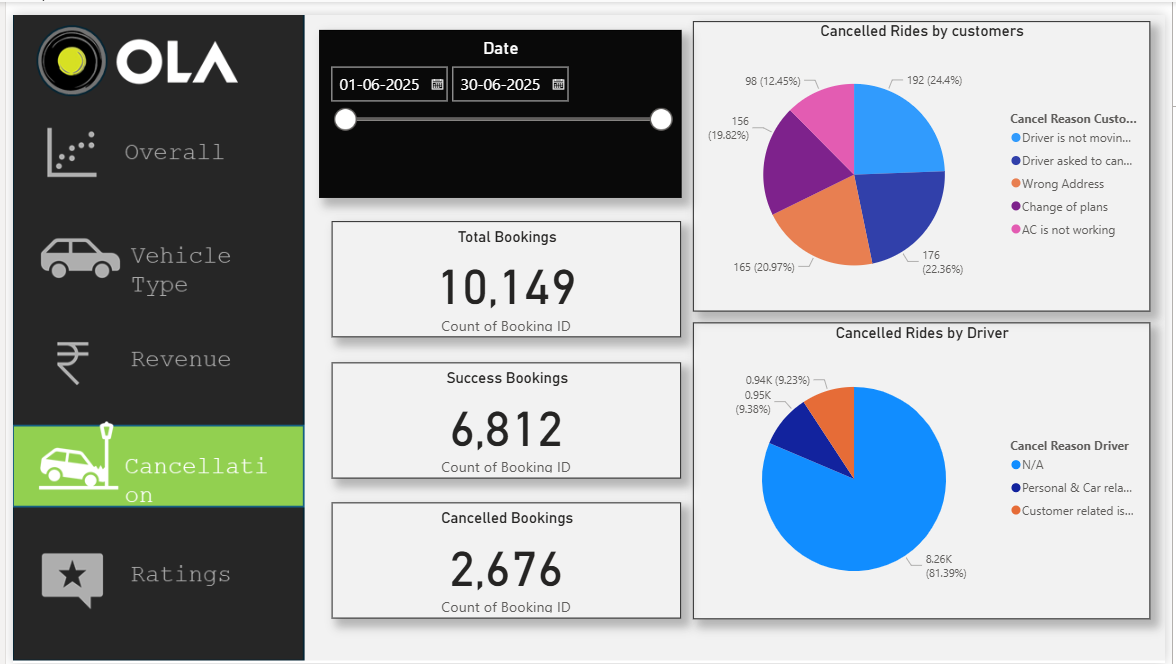

The page's visual inventory and layout, read from the dashboard file:
{"tool":"powerbi","page":{"name":"Cancellations","canvas":[1280,720],"ordinal":2},"visuals":[{"type":"actionButton","box":[0,229.2,325.7,90.5],"z":0},{"type":"actionButton","box":[0,341.4,325.7,88.1],"z":1000},{"type":"actionButton","box":[0,445.2,325.7,108.6],"z":2000},{"type":"actionButton","box":[0,580.3,325.7,90.5],"z":3000},{"type":"actionButton","box":[0,102.5,326.2,88.8],"z":4000},{"type":"pieChart","title":"Cancelled Rides by customers","fields":{"Y":["CountNonNull(ola final.Cancel Reason Customer)"],"Category":["ola final.Cancel Reason Customer"]},"box":[756.1,6.9,507.7,322.5],"z":5000},{"type":"pieChart","title":"Cancelled Rides by Driver","fields":{"Y":["CountNonNull(ola final.Cancel Reason Driver)"],"Category":["ola final.Cancel Reason Driver"]},"box":[756.1,341.7,507.7,329.3],"z":6000},{"type":"slicer","title":"Date","fields":{"Values":["ola final.Date"]},"box":[340.3,16.5,402.1,186.6],"z":7000},{"type":"card","title":"Total Bookings","fields":{"Values":["CountNonNull(ola final.Booking ID)"]},"box":[354,229.2,388.3,129],"z":8000},{"type":"card","title":"Success Bookings","fields":{"Values":["CountNonNull(ola final.Booking ID)"]},"box":[354,385.6,388.3,129],"z":9000},{"type":"card","title":"Cancelled Bookings","fields":{"Values":["CountNonNull(ola final.Booking ID)"]},"box":[354,542,388.3,129],"z":10000}]}

Visuals, with their boxes on the page's 1280x720 design canvas (x1, y1, x2, y2). These are canvas units, not pixel positions in the 1176x664 screenshot, which may show the page scaled, cropped or inside an application window:
actionButton: bbox=[0, 229, 326, 320]
actionButton: bbox=[0, 341, 326, 430]
actionButton: bbox=[0, 445, 326, 554]
actionButton: bbox=[0, 580, 326, 671]
actionButton: bbox=[0, 102, 326, 191]
"Cancelled Rides by customers" pieChart: bbox=[756, 7, 1264, 329]
"Cancelled Rides by Driver" pieChart: bbox=[756, 342, 1264, 671]
"Date" slicer: bbox=[340, 16, 742, 203]
"Total Bookings" card: bbox=[354, 229, 742, 358]
"Success Bookings" card: bbox=[354, 386, 742, 515]
"Cancelled Bookings" card: bbox=[354, 542, 742, 671]
